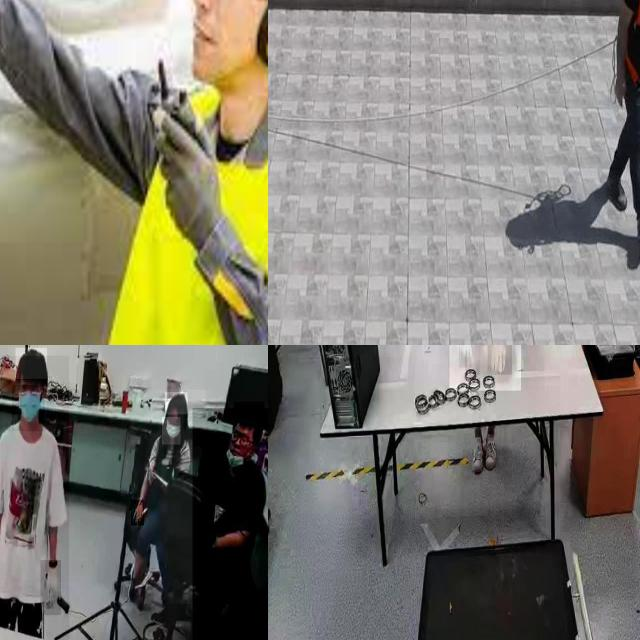Ear-protection: (192, 0, 268, 91)
Harness: (622, 0, 640, 88)
face_mask: (12, 385, 44, 431), (162, 417, 180, 445)
face_nomask: (231, 423, 249, 459)
hand_glove: (40, 560, 61, 616), (487, 345, 512, 375), (459, 345, 472, 368)
hand_noglove: (131, 500, 145, 526)
head_nohelmet: (15, 348, 48, 380), (233, 402, 265, 421), (165, 392, 187, 414)
person: (0, 356, 69, 640), (192, 408, 268, 640), (132, 390, 206, 604)
shoes: (482, 432, 501, 470), (469, 434, 485, 474)
